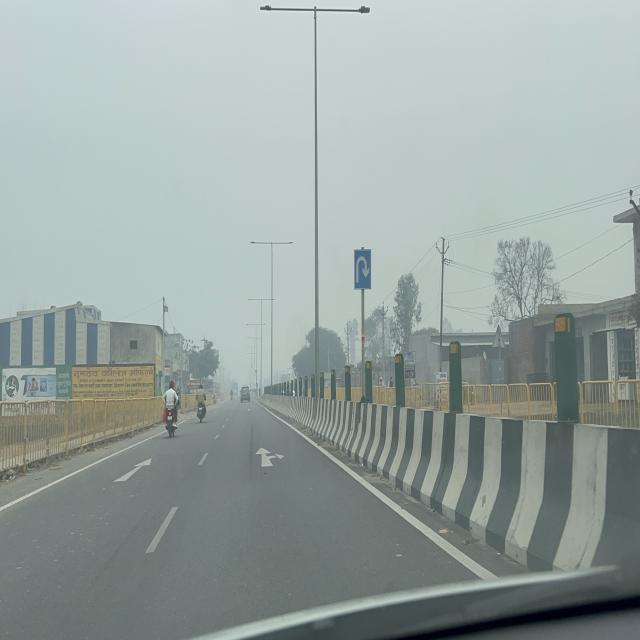U_TURN: (354, 249, 371, 291)
